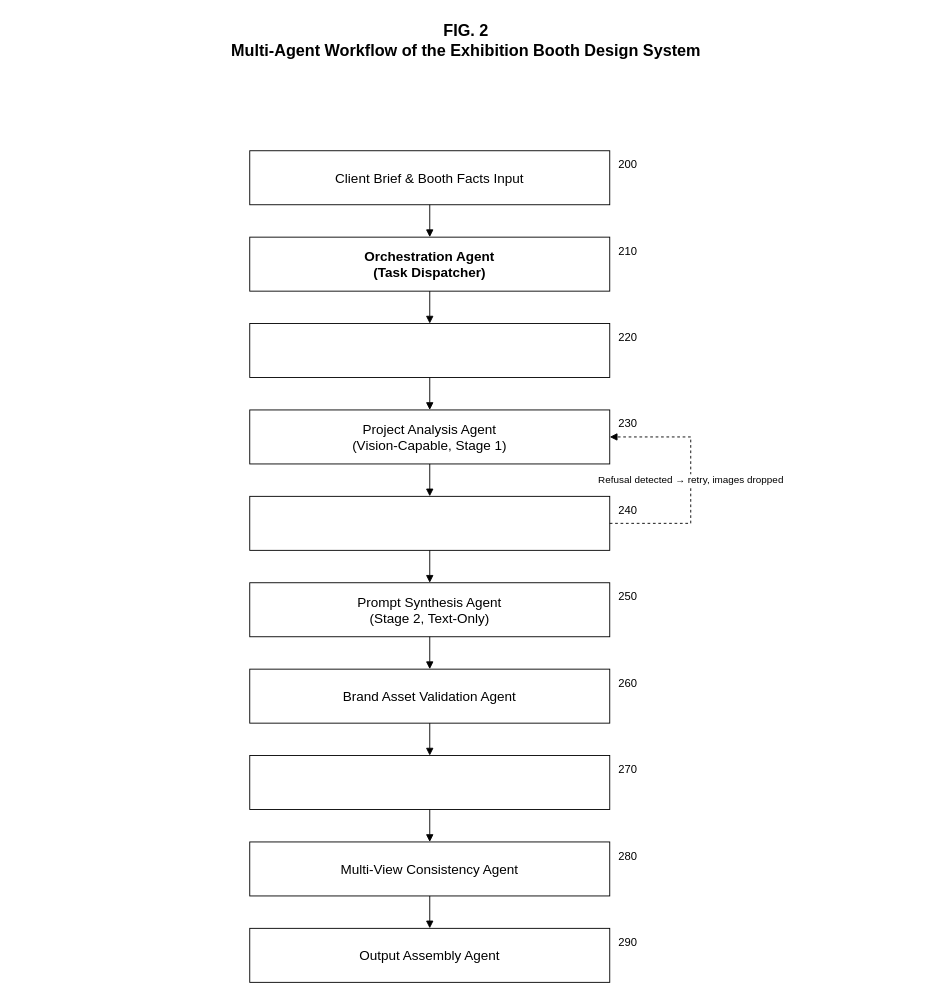
The diagram is 931 pixels wide and 998 high, and some of its shapes have lost their labels. Here are the shapes that lost their labels. From the top down, the centre of each, then its label:
At [429,350]: "Spatial Planning Agent (Zone Budget & Layout)".
At [429,522]: "Refusal Detection Agent".
At [429,782]: "Image Rendering Agent (Gemini / OpenAI)".
